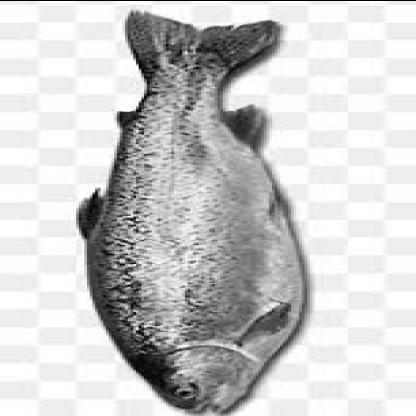fish: (71, 9, 308, 415)
